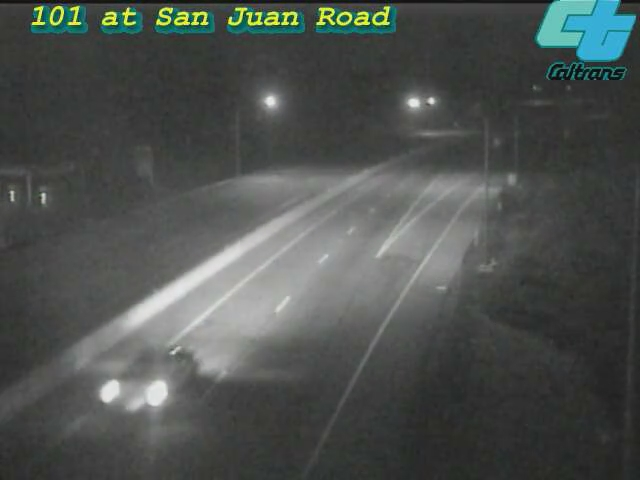vehicle: (91, 321, 201, 431)
